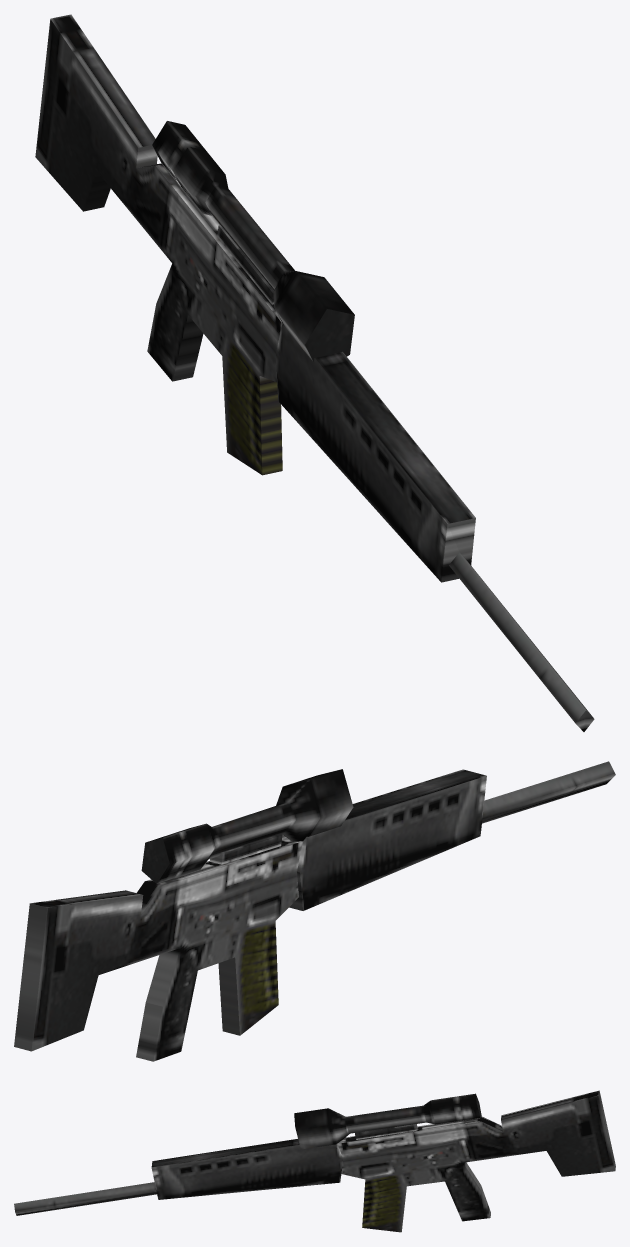
The model's file is sg550-world.glb.
3 renders of one model, top to bottom at view 1: azimuth 30°, elevation 25°; view 2: azimuth 150°, elevation 25°; view 3: azimuth 270°, elevation 25°, orthographic. The views are drawn at different scales.
Visible parts, largest first — view 1: sg550 held; view 2: sg550 held; view 3: sg550 held.
Boxes of the visible parts, x1,y1,x2,y2 form: sg550 held: [35, 14, 594, 731]; sg550 held: [14, 761, 615, 1061]; sg550 held: [14, 1090, 615, 1232].
Size of the model in its own units: 0.0794 by 0.2667 by 1.02.
Materials: 1 (1 with a texture image).
